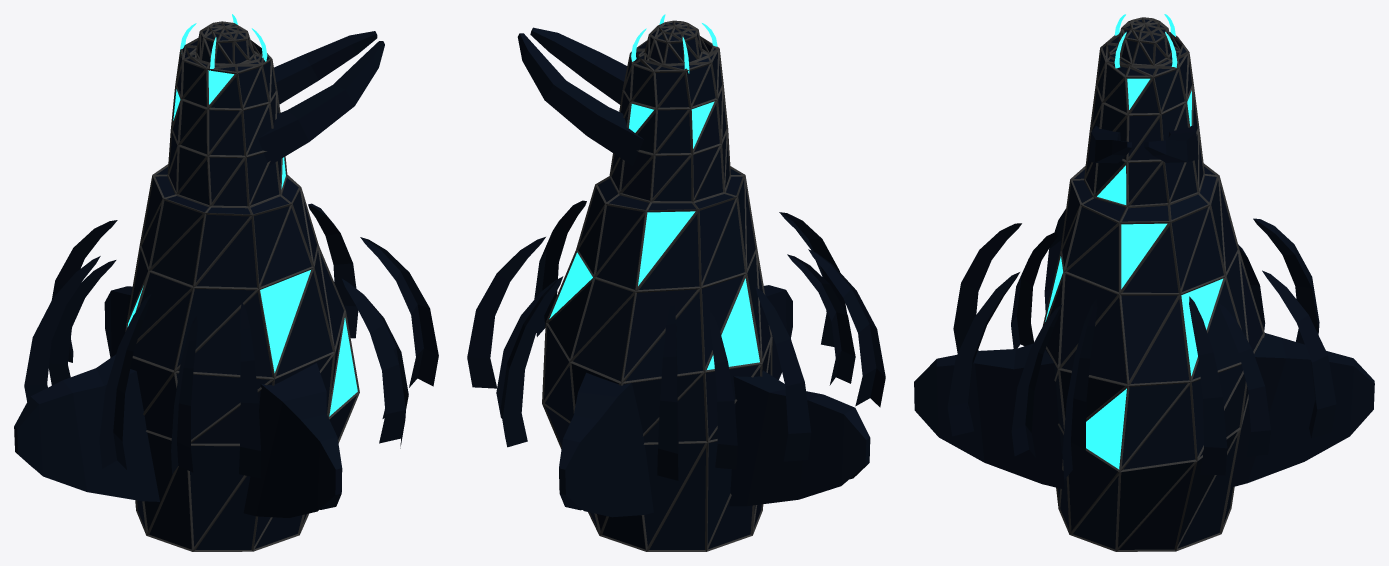
File: MO_Tower.fbx
The picture shows the model from 3 angles, left to right: view 1: azimuth 30°, elevation 25°; view 2: azimuth 150°, elevation 25°; view 3: azimuth 270°, elevation 25°; orthographic projection.
Parts seen in each view (by area): view 1: tower; view 2: tower; view 3: tower.
Part boxes in pixels (<box>): tower: <box>14,14,438,551</box>; tower: <box>467,14,885,551</box>; tower: <box>914,14,1374,551</box>.
Bounding box in the file's own units: 116 × 146 × 123.
